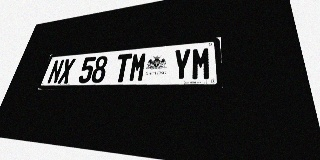5: (77, 57, 96, 83)
8: (90, 55, 109, 83)
M: (191, 47, 211, 81), (128, 52, 148, 82)
N: (46, 59, 65, 84)
T: (113, 53, 132, 82)
X: (57, 58, 76, 84)
Y: (172, 48, 191, 81)
